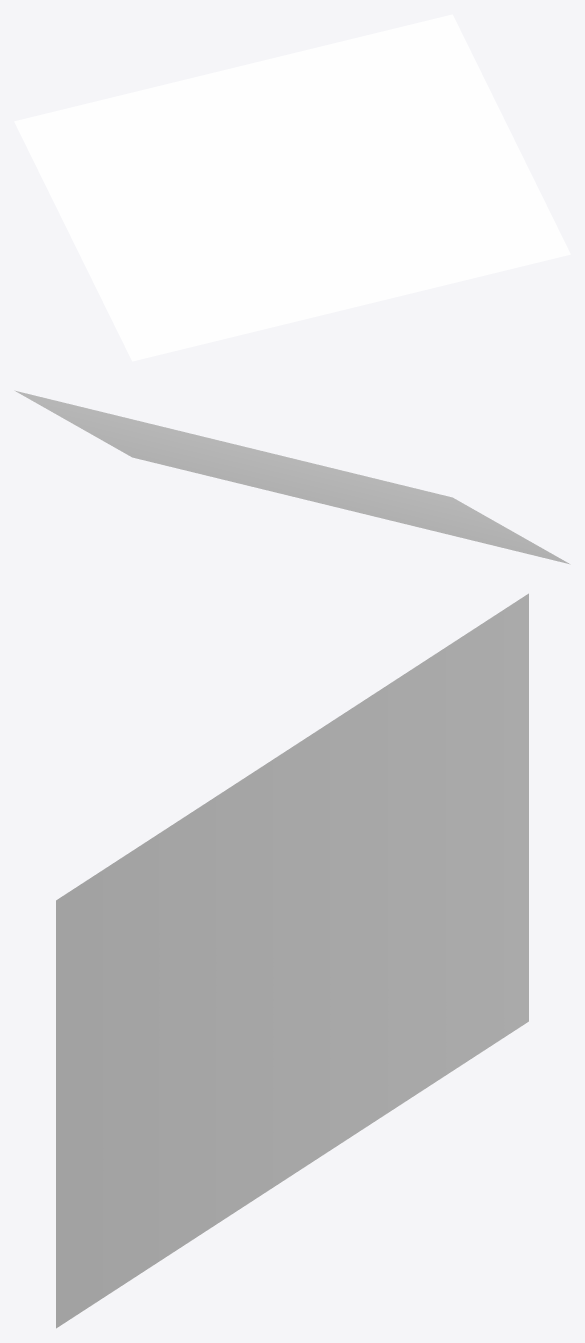
The model's file is grd_Ex_d_8.dae.
3 renders of one model, top to bottom at view 1: azimuth 30°, elevation 25°; view 2: azimuth 150°, elevation 25°; view 3: azimuth 270°, elevation 25°, orthographic. The views are drawn at different scales.
Visible parts, largest first — view 1: glass_0_0; view 2: glass_0_0; view 3: glass_0_0.
Boxes of the visible parts, <box> form: glass_0_0: <box>14,14,570,361</box>; glass_0_0: <box>14,390,570,564</box>; glass_0_0: <box>56,593,528,1328</box>.
Bounding box in the file's own units: 32 × 10.71 × 14.94.
Materials: 1 (1 with a texture image).
